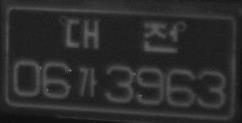0: (12, 59, 42, 98)
3: (104, 64, 135, 104), (197, 69, 228, 109)
6: (166, 67, 197, 108), (42, 61, 73, 99)
9: (135, 65, 165, 106)
가: (76, 65, 99, 98)
대전_D: (64, 16, 180, 56)
